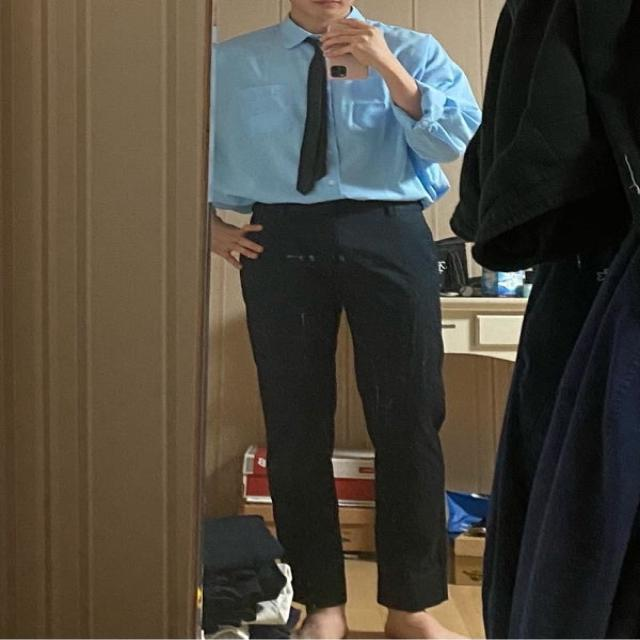shirt: (209, 5, 483, 212)
slacks: (237, 201, 456, 614)
